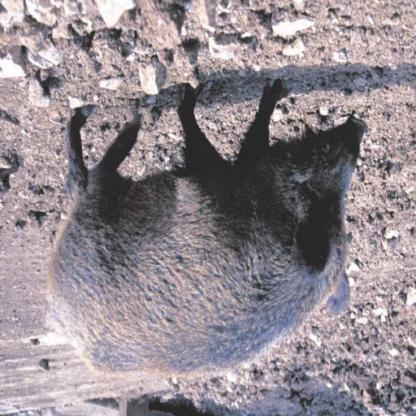boar: (26, 52, 368, 405)
